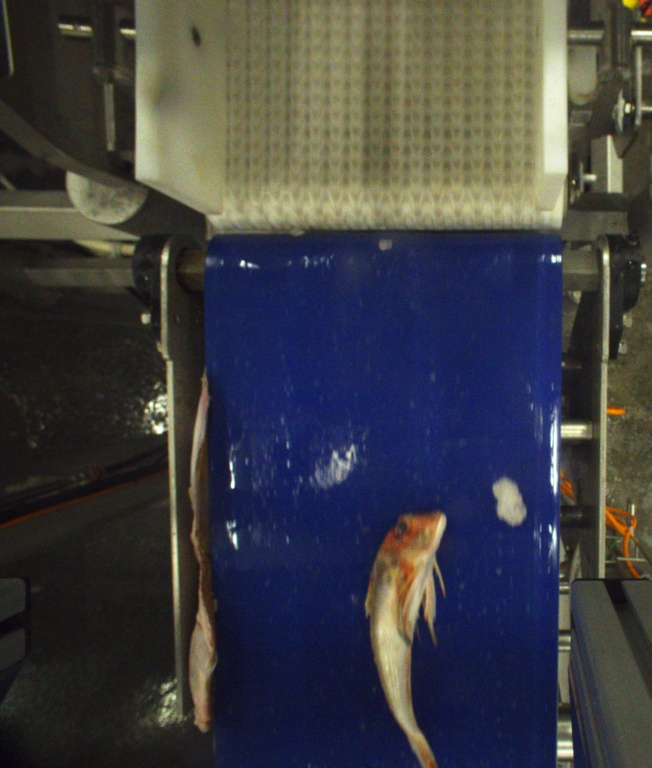GUU: (364, 512, 448, 768)
